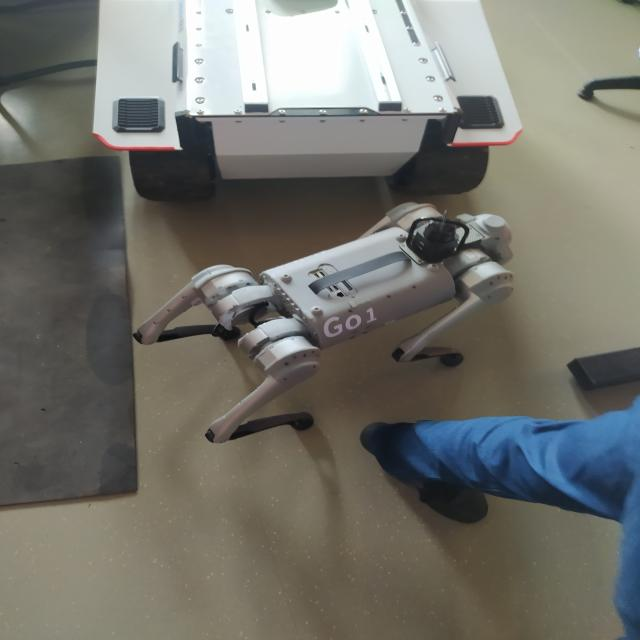unitree-go1-robot: (142, 202, 520, 444)
